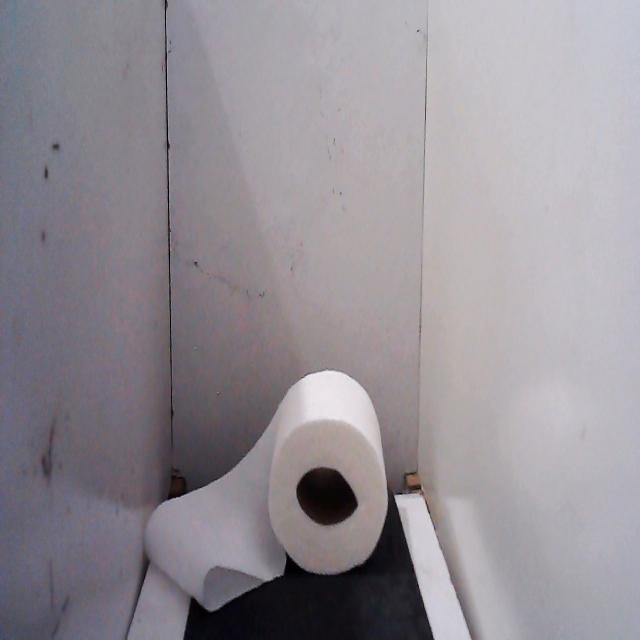papel: (139, 358, 392, 620)
